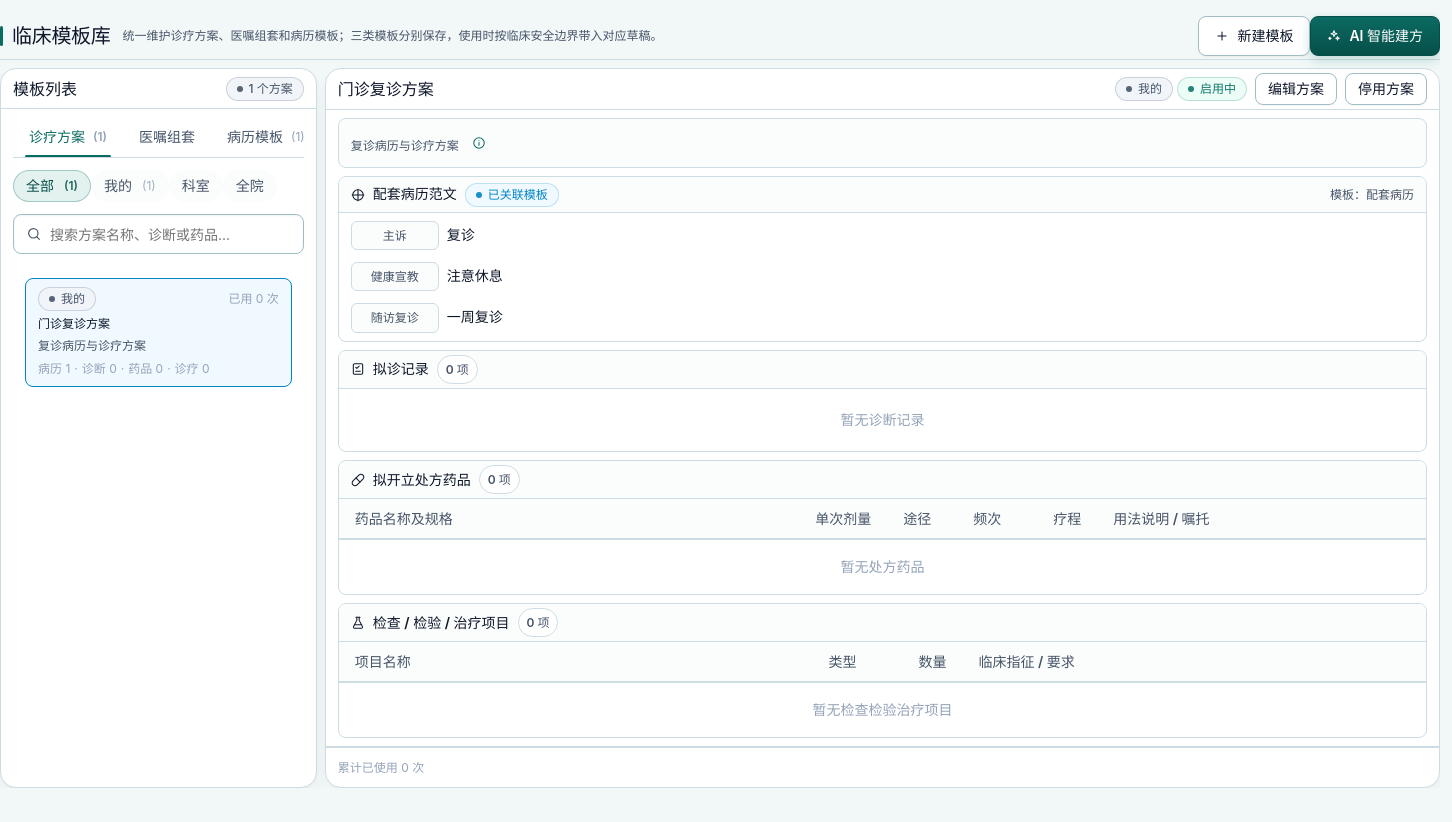
Test case: shows education and follow-up once and keeps applicability in a tooltip
Expected: the text "注意休息" is shown, [447,267,503,284]
Expected: the text "一周复诊" is shown once, [447,308,503,325]
Hover over the button named "查看方案适用条件" at {"x": 479, "y": 143}, box [459,127,499,159]
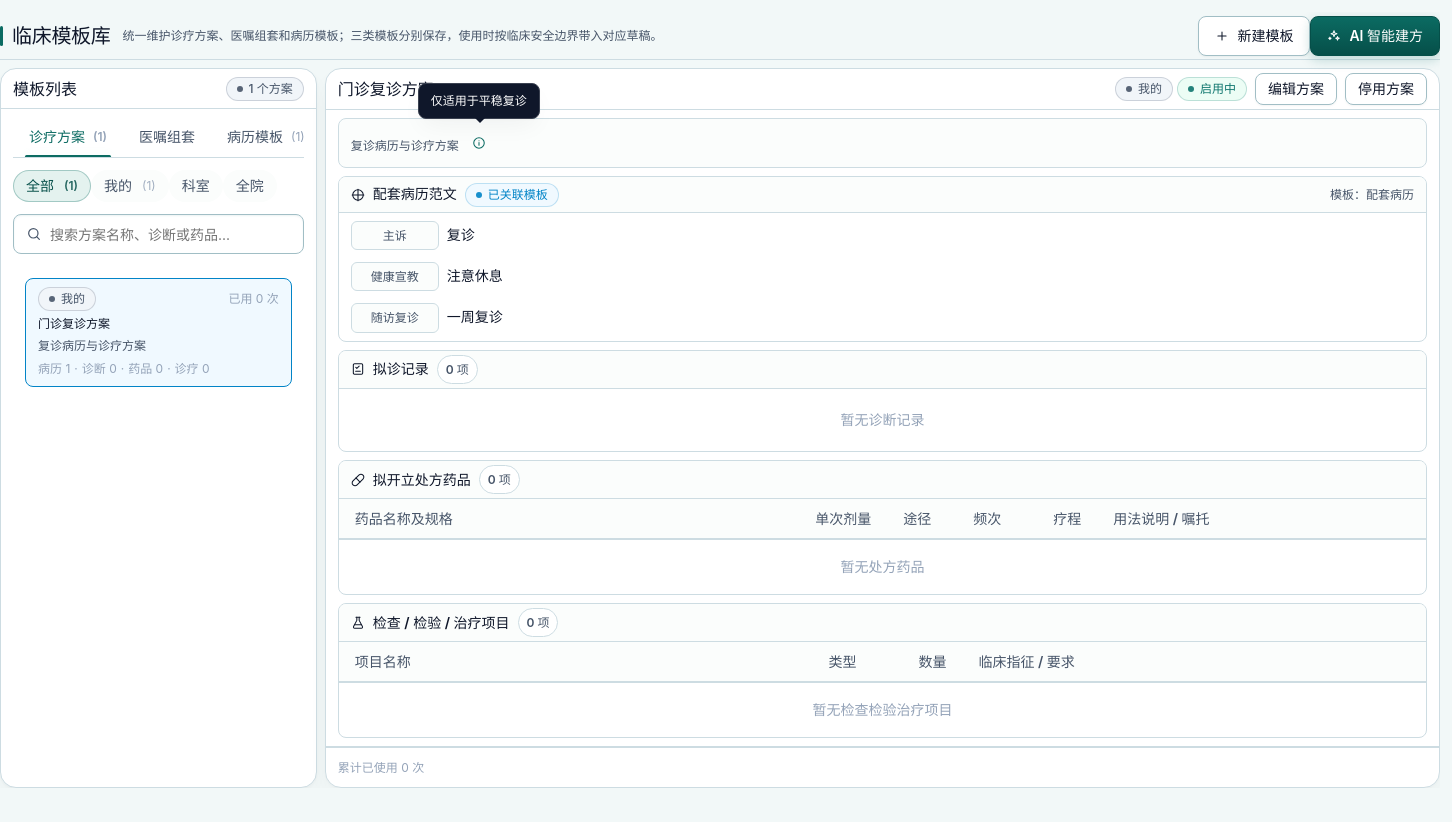
Result: the tooltip reads "仅适用于平稳复诊" at [431,93,527,108]
